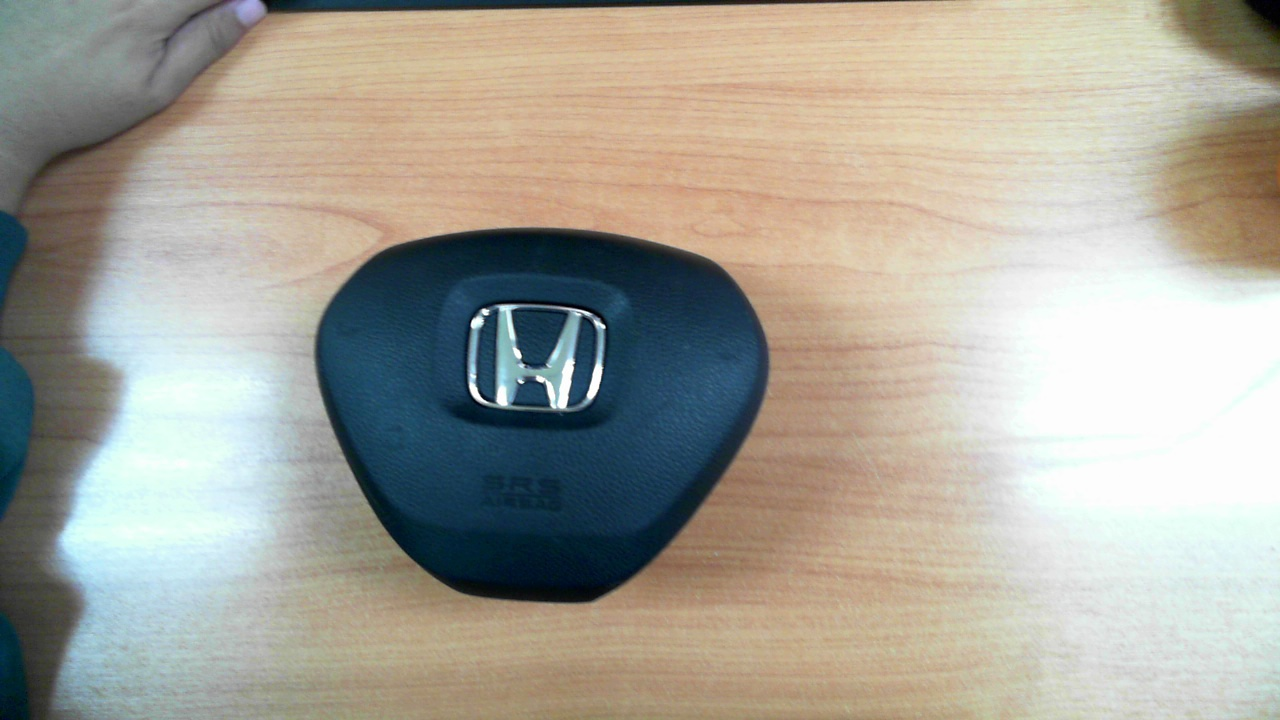Airbag: (313, 227, 771, 603)
Honda: (466, 303, 607, 413)
